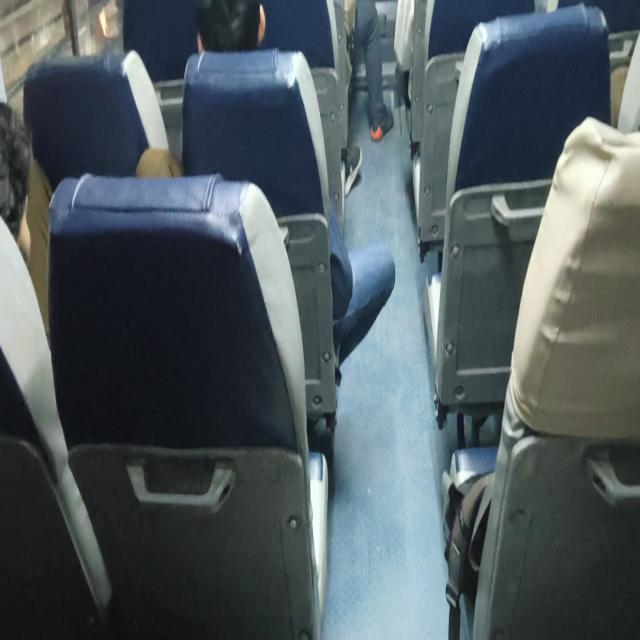person: (0, 103, 36, 249), (200, 0, 256, 68)
